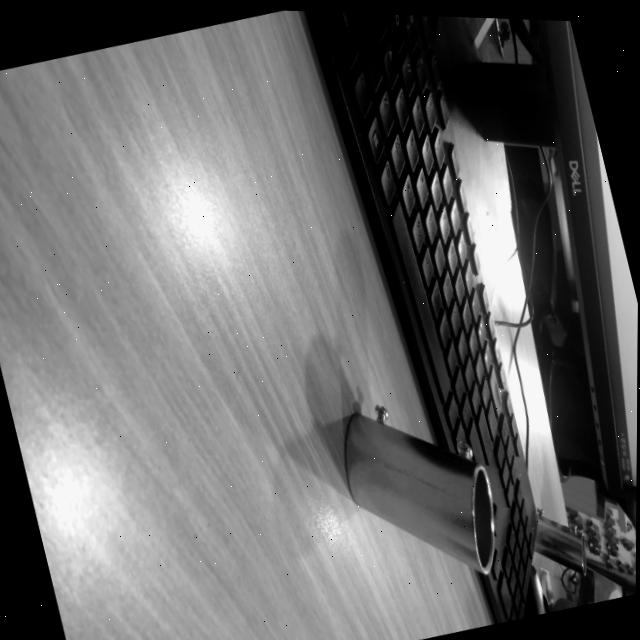Co_Lon: (311, 393, 535, 579)
